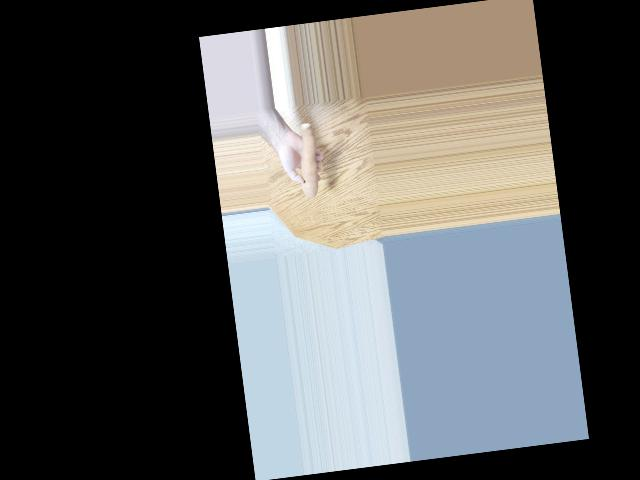sweet_potato: (298, 127, 326, 198)
